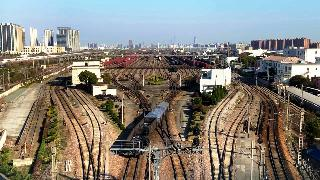train: (122, 101, 171, 157)
